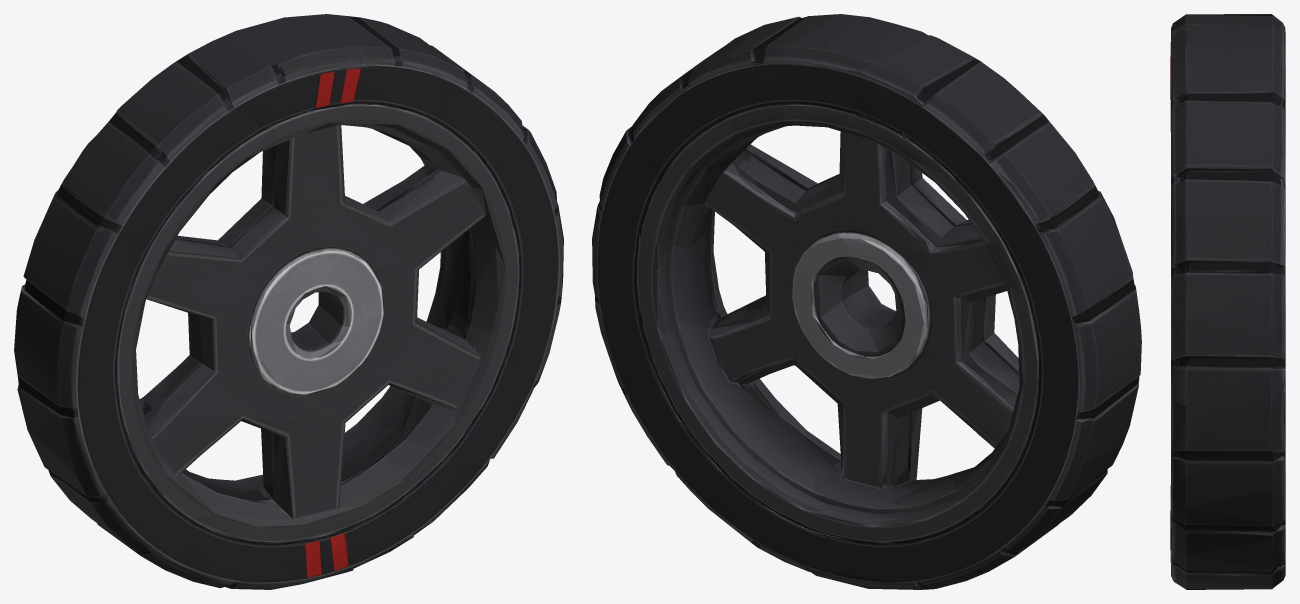
File: wheel_light.glb
3 views of the same model, side by side, from view 1: azimuth 30°, elevation 25°; view 2: azimuth 150°, elevation 25°; view 3: azimuth 270°, elevation 25° (orthographic).
Visible parts, largest first — view 1: output_unwrapped; view 2: output_unwrapped; view 3: output_unwrapped.
Boxes of the visible parts, <box> form: output_unwrapped: <box>14,14,563,589</box>; output_unwrapped: <box>592,14,1141,589</box>; output_unwrapped: <box>1170,14,1285,589</box>.
Size of the model in its own units: 1.9 by 1.9 by 0.3813.
Materials: 1 (1 with a texture image).
